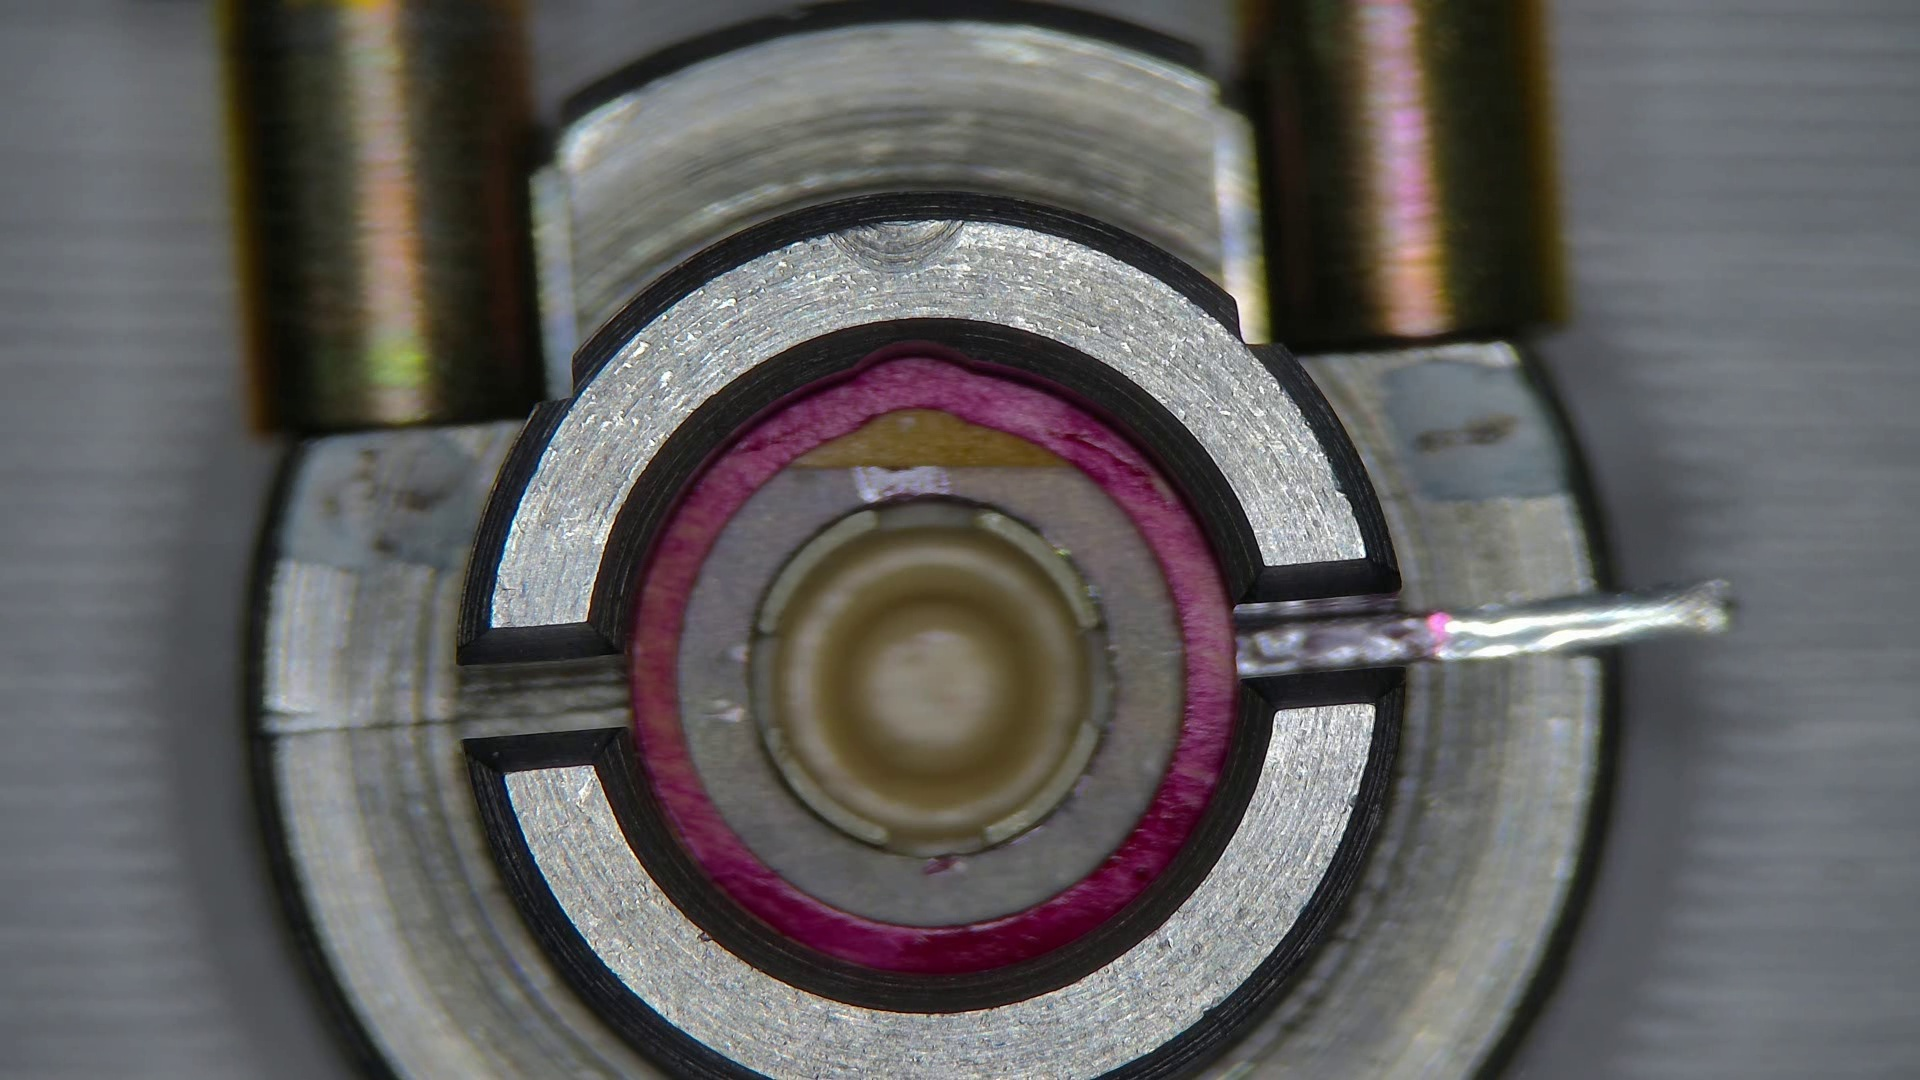GreyOring: (629, 355, 1236, 973)
YellowOring: (676, 463, 1191, 926)
redOring: (787, 410, 1075, 471)
